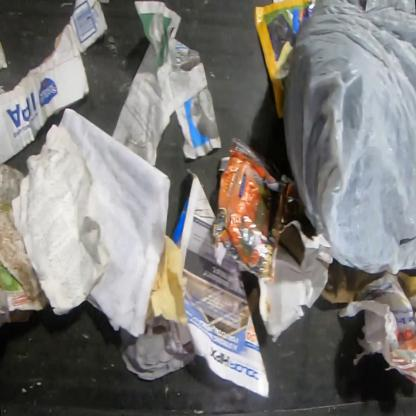cardboard: (0, 0, 109, 167), (321, 258, 386, 304), (0, 262, 47, 311)
soft_plastic: (283, 0, 415, 276), (211, 138, 303, 284)
